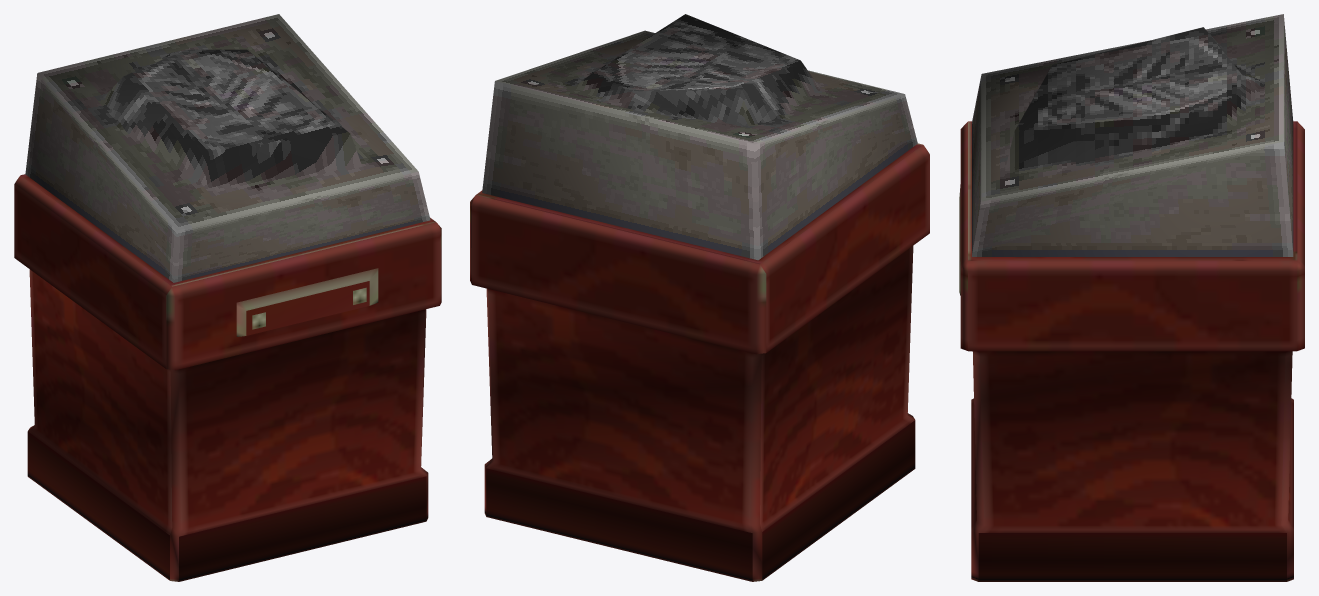
The model's file is int_fos_fern.dae.
3 views of the same model, side by side, from view 1: azimuth 30°, elevation 25°; view 2: azimuth 150°, elevation 25°; view 3: azimuth 270°, elevation 25° (orthographic). The views are drawn at different scales.
Visible parts, largest first — view 1: int_fos_fern; view 2: int_fos_fern; view 3: int_fos_fern.
Part boxes in pixels (x1=…): int_fos_fern: x1=14, y1=14, x2=441, y2=581; int_fos_fern: x1=470, y1=14, x2=929, y2=581; int_fos_fern: x1=959, y1=14, x2=1304, y2=581.
Size of the model in its own units: 27.04 by 38.9 by 27.23.
3 materials, 3 textured.
